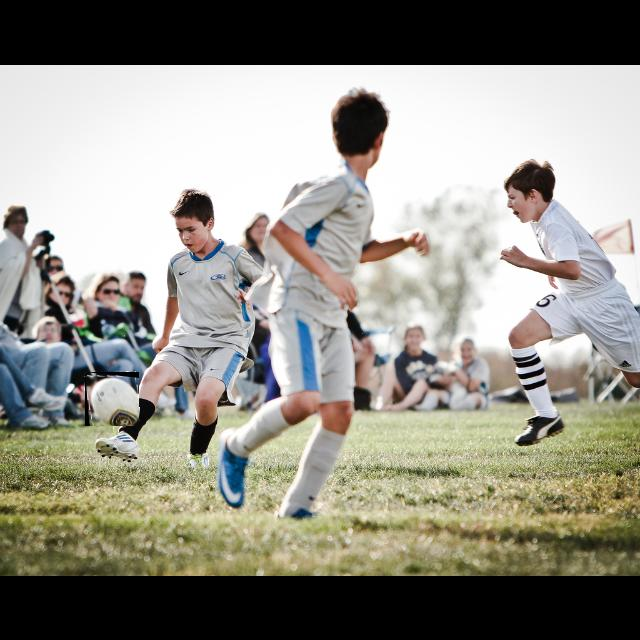Football: (85, 372, 139, 426)
